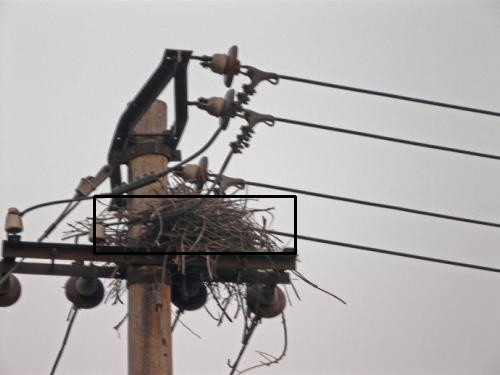bird-nest: (160, 187, 260, 246)
